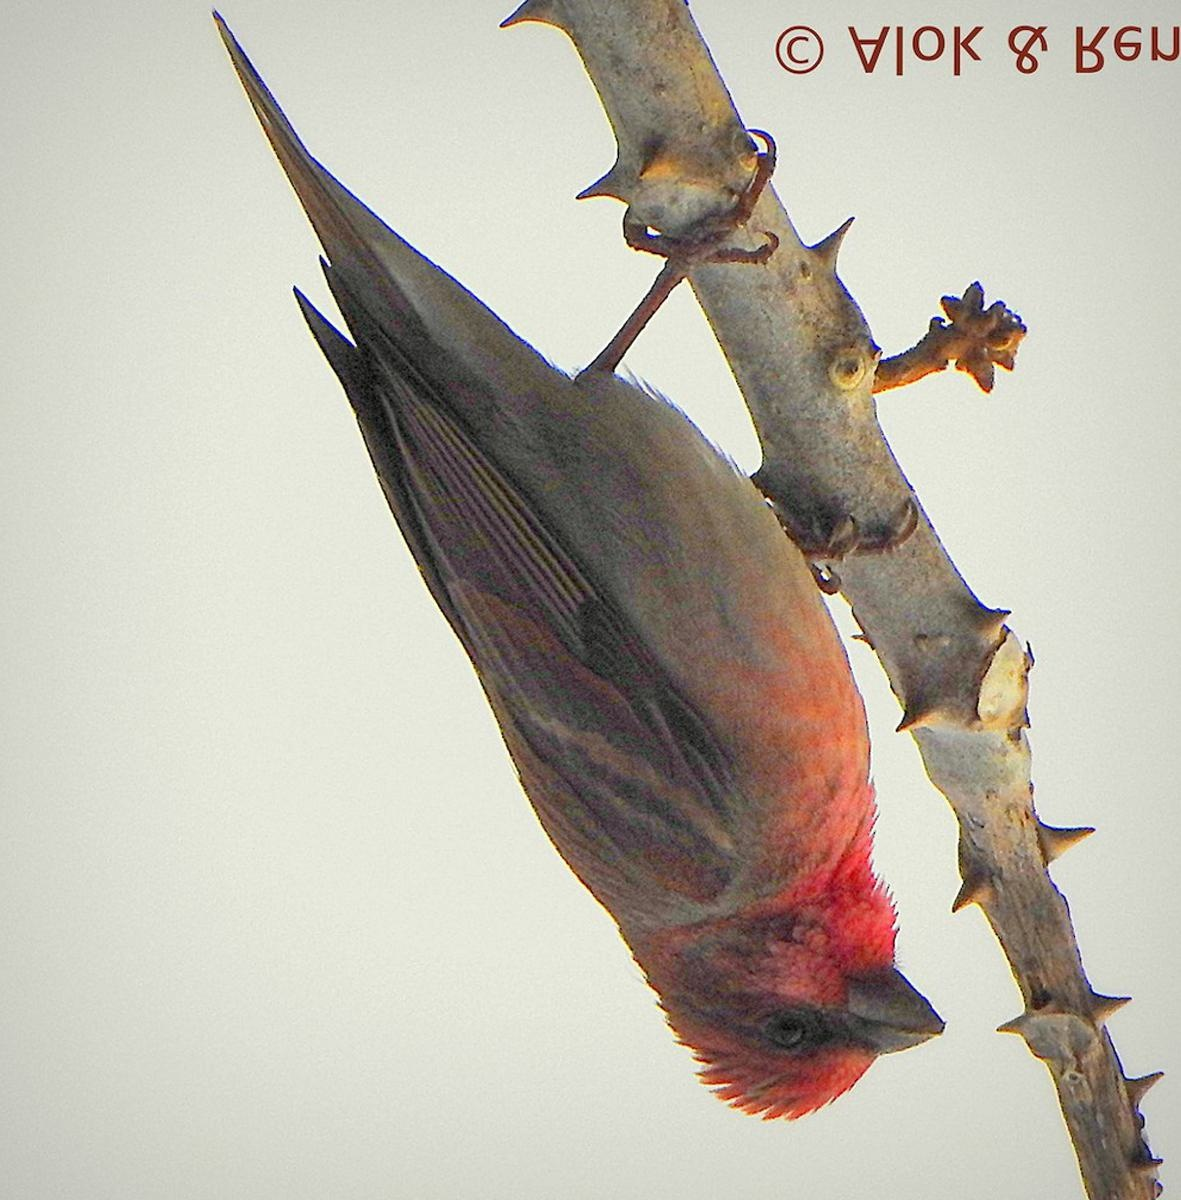rosefinch: (318, 104, 969, 1133)
